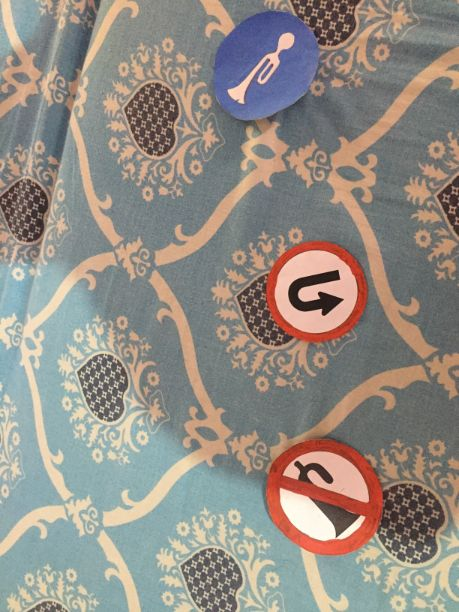blow-horn: (210, 10, 323, 123)
no-horn: (265, 442, 379, 556)
u-turn: (266, 237, 374, 345)
